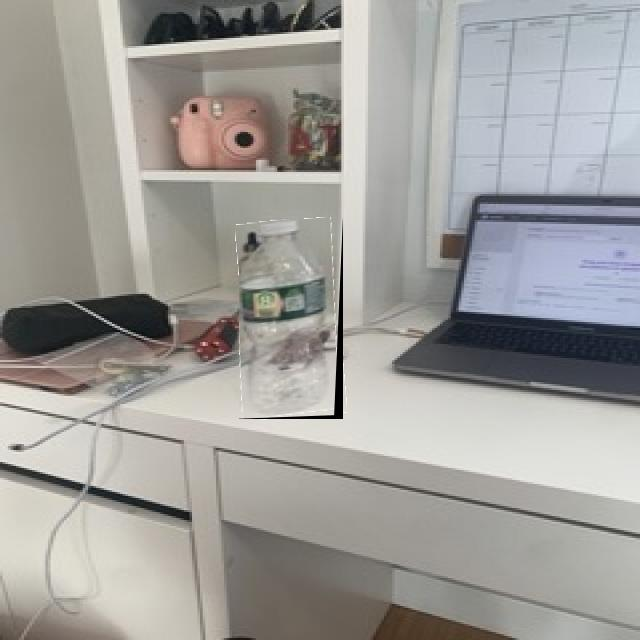water_bottle: (239, 219, 343, 419)
